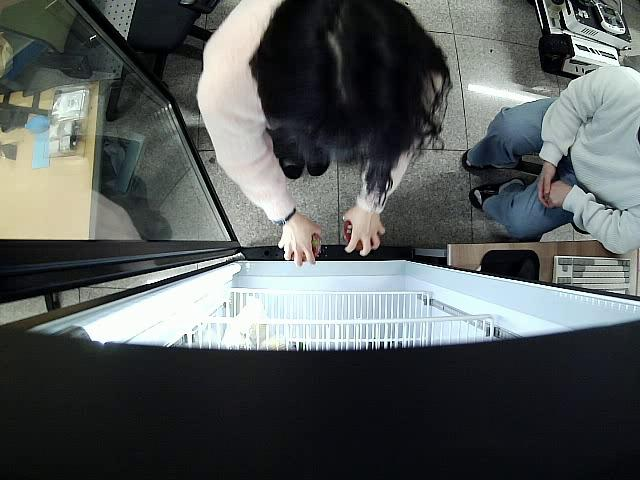00_hand: (279, 207, 322, 266), (343, 206, 385, 257)
06_nuguri_S: (342, 221, 379, 251), (288, 233, 322, 261)
